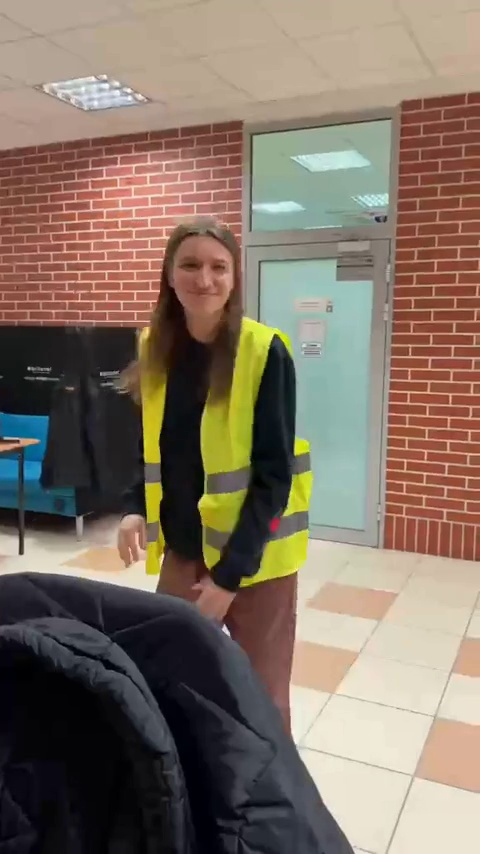vest: (124, 220, 313, 665)
